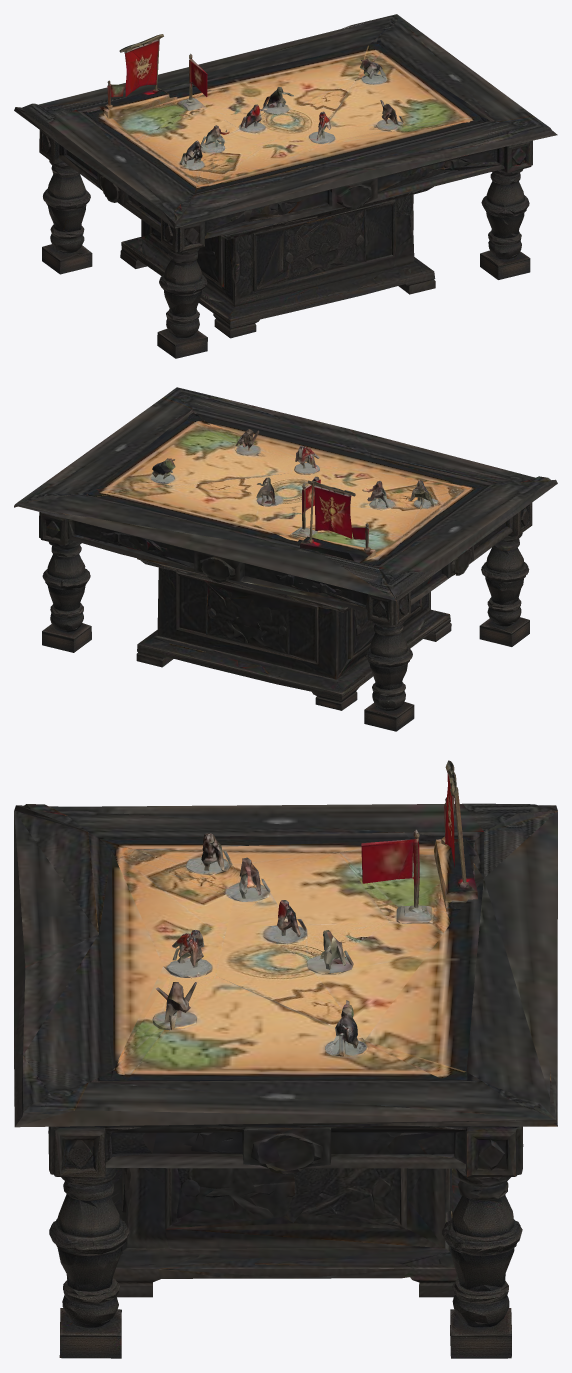
File: war_table.gltf
The picture shows the model from 3 angles, top to bottom: view 1: azimuth 30°, elevation 25°; view 2: azimuth 150°, elevation 25°; view 3: azimuth 270°, elevation 25°; orthographic projection. The views are drawn at different scales.
Visible parts, largest first — view 1: war_table; view 2: war_table; view 3: war_table.
Part boxes in pixels (<box>): war_table: <box>14,14,557,358</box>; war_table: <box>14,387,557,731</box>; war_table: <box>14,760,557,1358</box>.
Size of the model in its own units: 1.96 by 1.07 by 1.42.
1 material, 1 textured.
